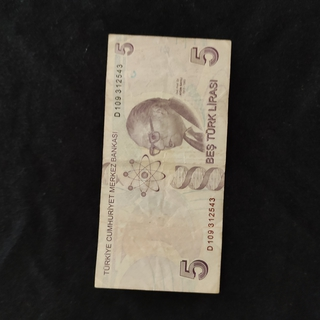5TLBack: (93, 33, 231, 294)
